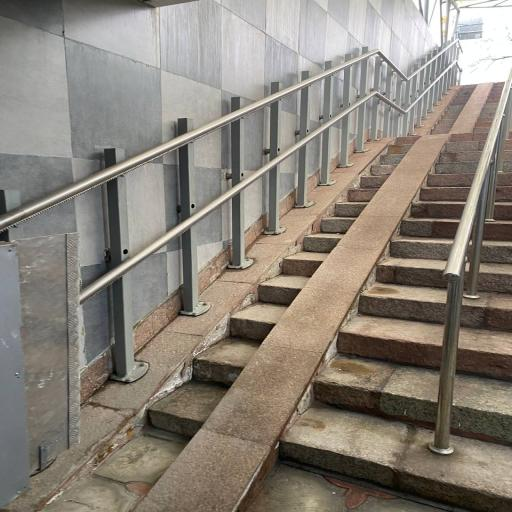pole: (22, 78, 502, 512)
sofa: (147, 84, 511, 498)
